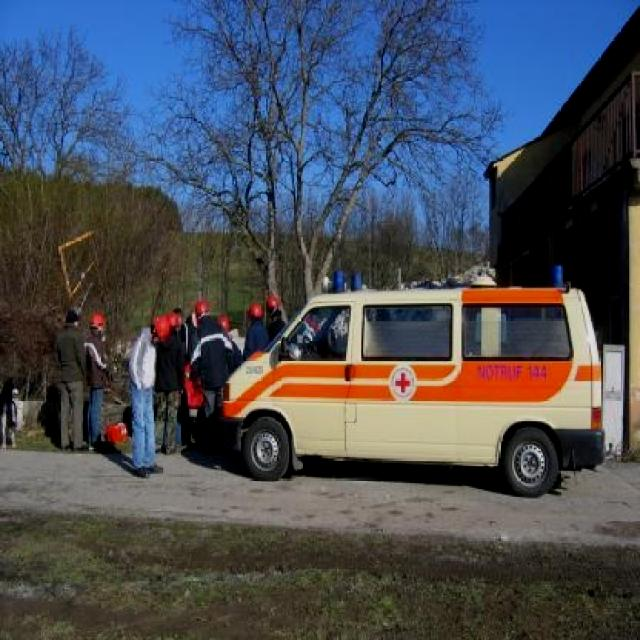Van: (202, 270, 604, 500)
